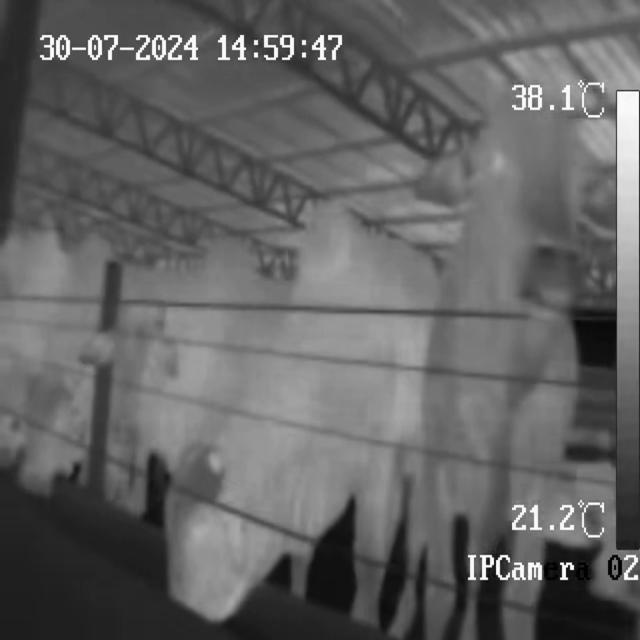eye: (488, 145, 510, 182)
head: (478, 102, 596, 315)
